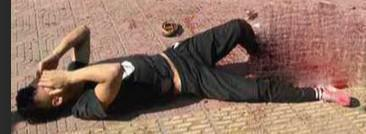Fall-Detected: (5, 8, 362, 123)
